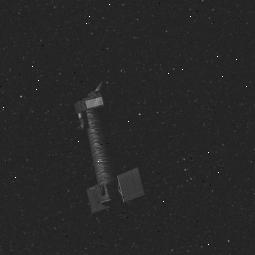xmm_newton: (54, 86, 162, 212)
